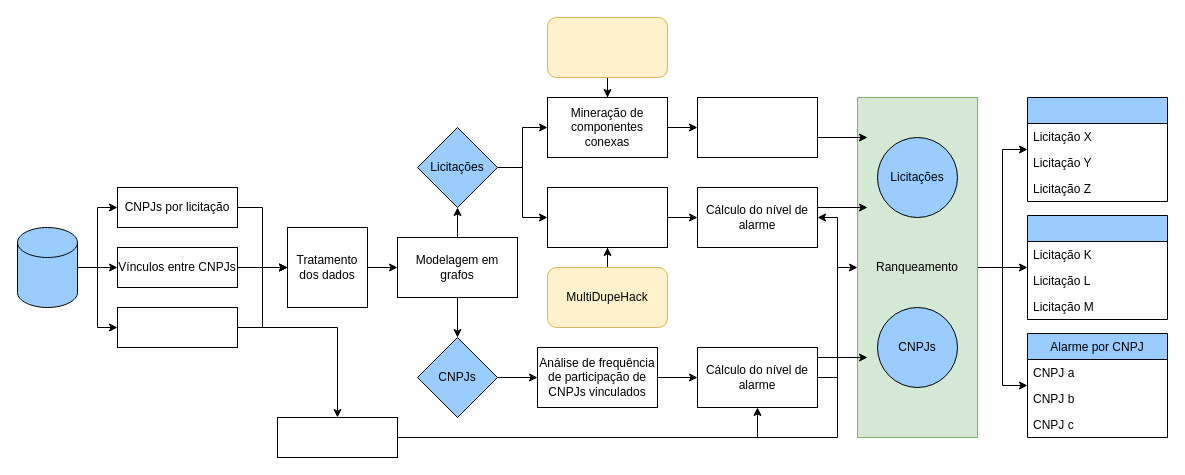
The diagram is 1185 pixels wide and 475 high, and some of its shapes have lost their labels. Each missing label, with the box of its shape:
Alarme por Licitação: (1026, 214, 1168, 320)
Competitividade: (1026, 96, 1168, 202)
Cálculo do grau de competitividade: (696, 96, 818, 158)
Informações gerais das licitações: (116, 306, 238, 348)
Mineração de cross-graph quasi-cliques: (546, 186, 668, 248)
MPMG: (16, 226, 78, 308)
NetworkX: (546, 16, 668, 78)
Valores das licitações: (276, 416, 398, 458)
